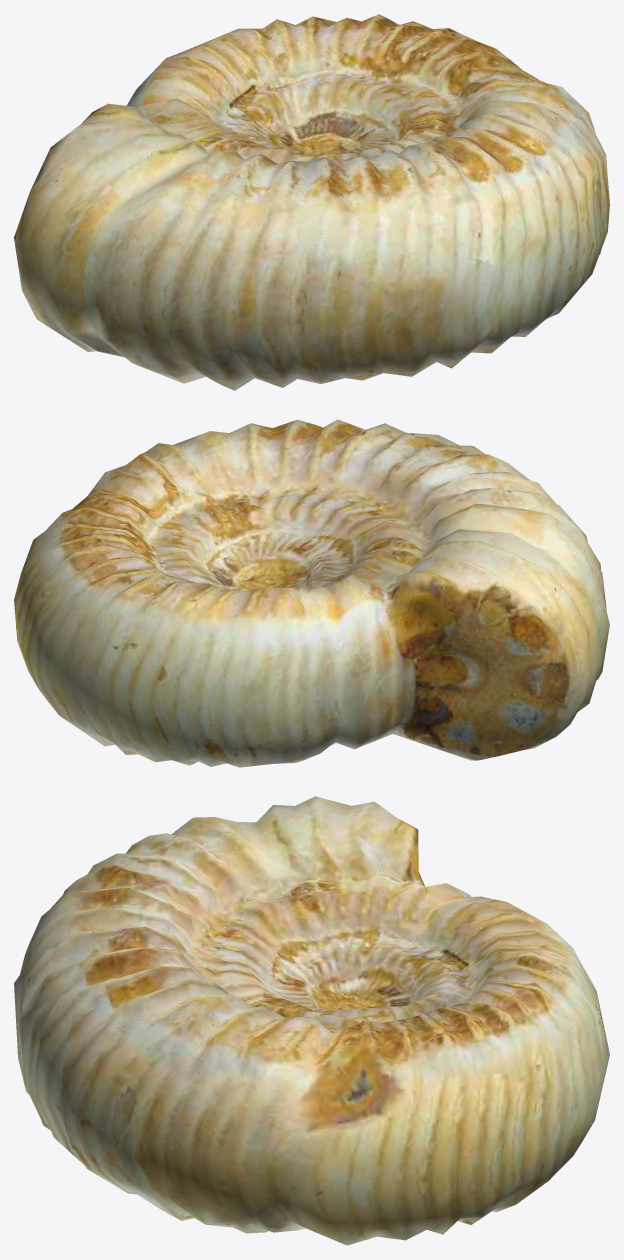
The picture shows the model from 3 angles, top to bottom: view 1: azimuth 30°, elevation 25°; view 2: azimuth 150°, elevation 25°; view 3: azimuth 270°, elevation 25°; orthographic projection. The views are drawn at different scales.
Parts seen in each view (by area): view 1: fossil08; view 2: fossil08; view 3: fossil08.
Part boxes in pixels (bbox=[...]): fossil08: bbox=[14, 14, 609, 390]; fossil08: bbox=[14, 419, 609, 767]; fossil08: bbox=[14, 796, 609, 1245].
Size of the model in its own units: 93.5 by 34.39 by 80.44.
1 material, 1 textured.
